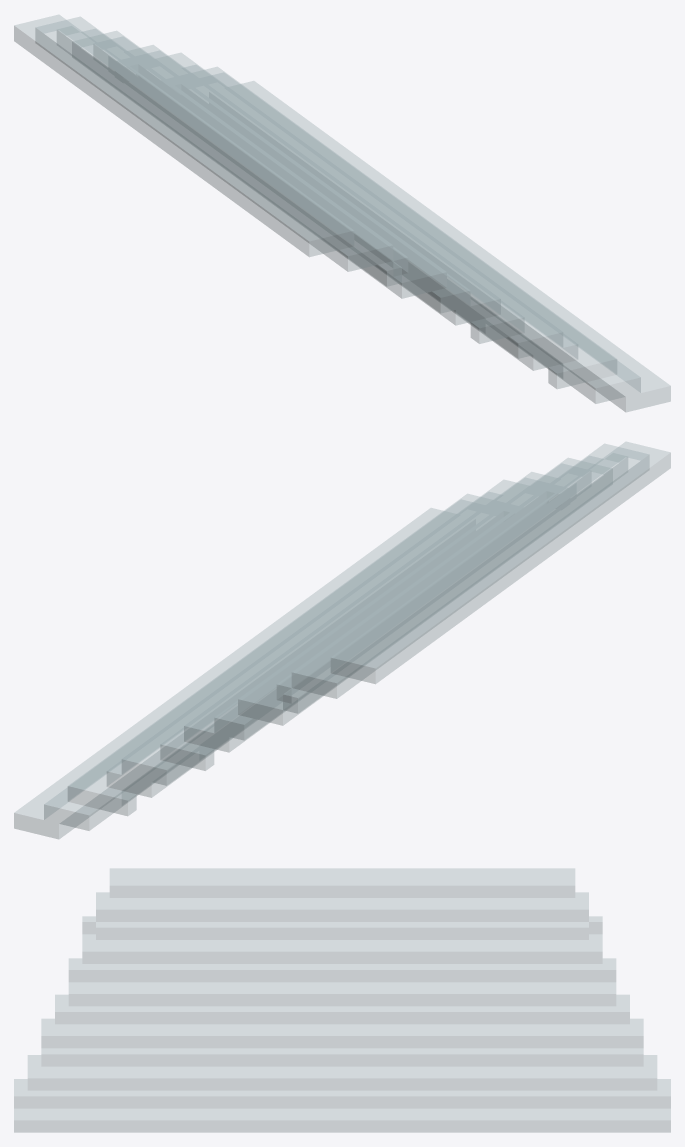
Rendered from sports_car_windscreen.glb.
3 renders of one model, top to bottom at view 1: azimuth 30°, elevation 25°; view 2: azimuth 150°, elevation 25°; view 3: azimuth 270°, elevation 25°, orthographic. The views are drawn at different scales.
Parts seen in each view (by area): view 1: body:compound; view 2: body:compound; view 3: body:compound.
Boxes of the visible parts, left/top/right/bottom form: body:compound: left=14, top=14, right=670, bottom=412; body:compound: left=14, top=441, right=670, bottom=839; body:compound: left=14, top=868, right=670, bottom=1132.
Bounding box in the file's own units: 0.625 × 0.375 × 1.5.
